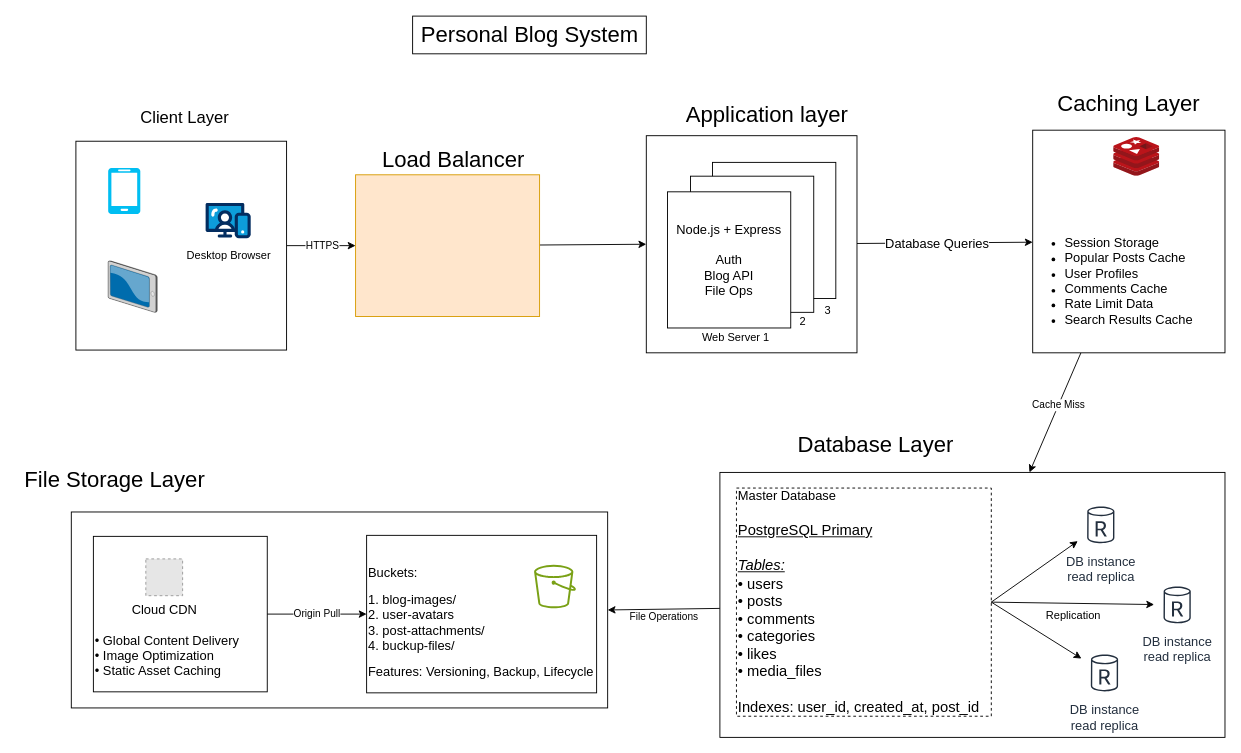
The diagram is 1241 pixels wide and 753 high, and some of its shapes have lost their labels. Grey dashed boxes stand in for pictures. Here are the shapes that lost their labels. From the top down, the centre of each, then its label:
the point at 1136,156: Redis Cache
the point at 124,190: Mobile Browser
the point at 447,245: NGINX Load Balancer SSL Termination Rate Limiting Request Routing
the point at 132,286: Tablet Browser
the point at 554,586: Object Storage
